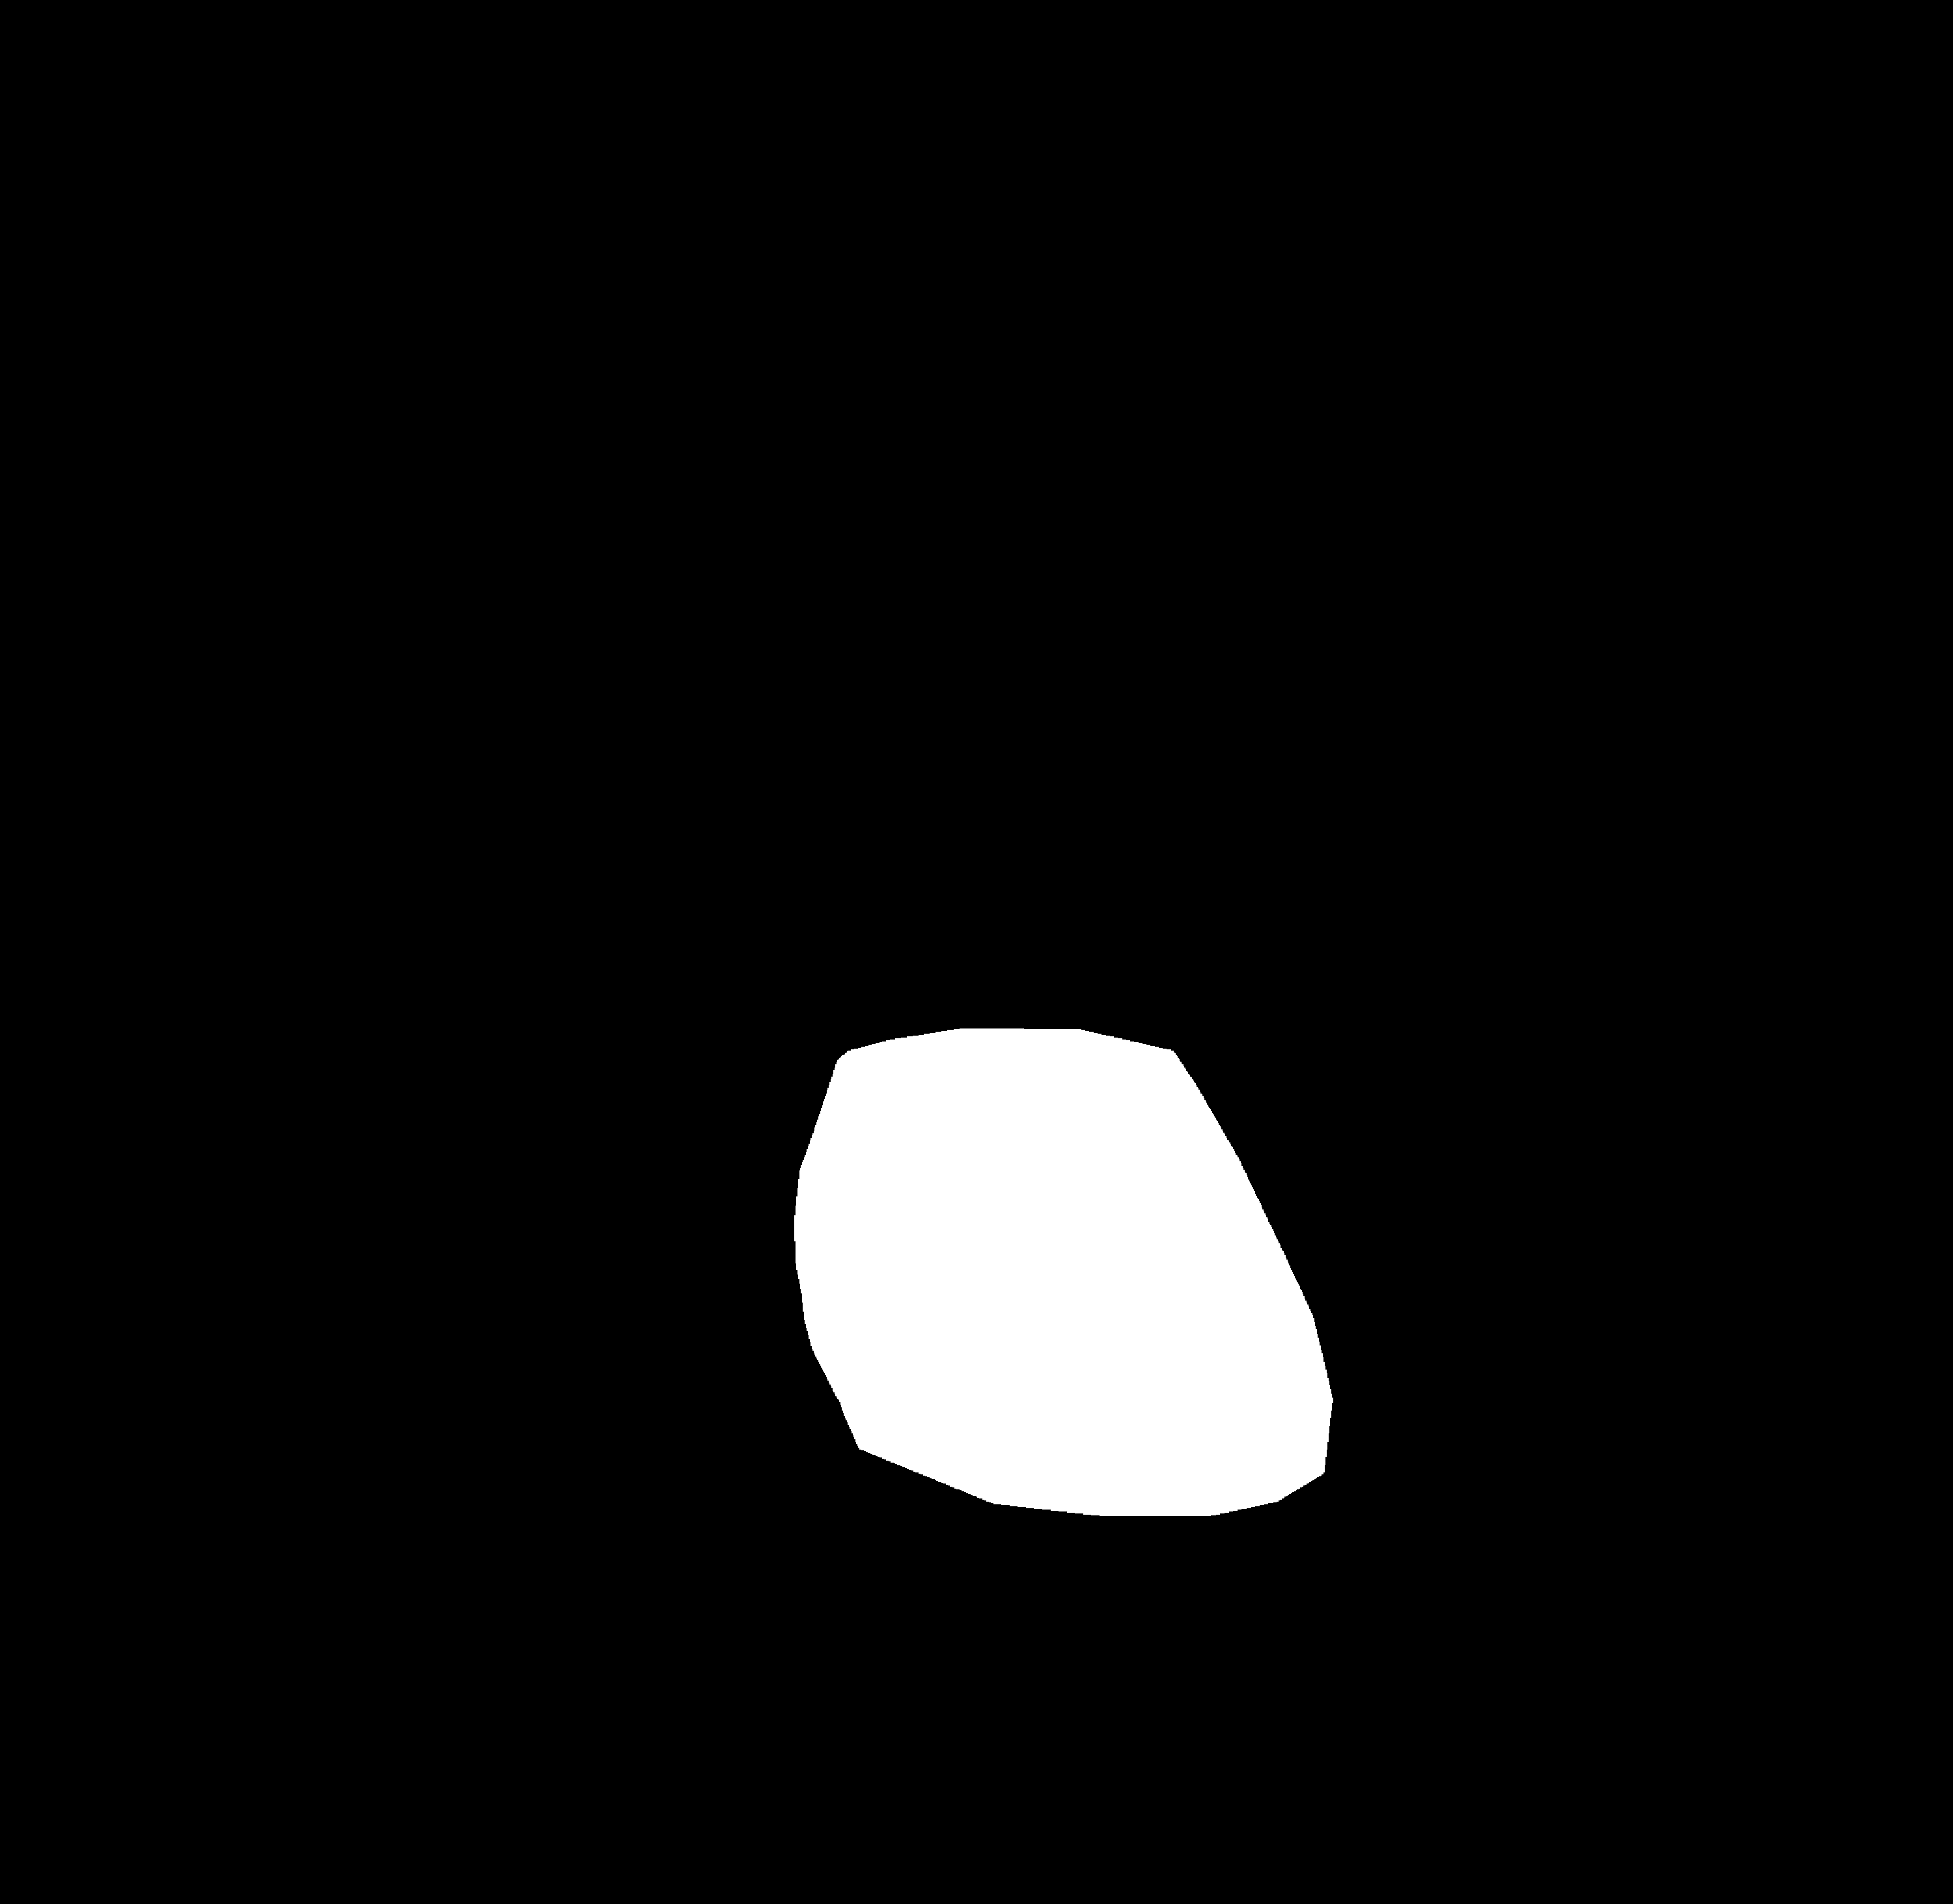heart: (790, 1112, 1327, 1519)
left_lung: (307, 207, 905, 1728)
right_lung: (1051, 230, 1623, 1775)
